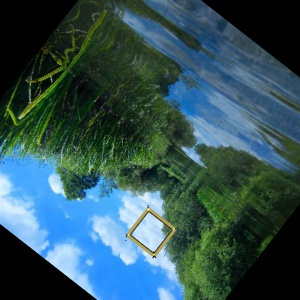square: (122, 204, 179, 261)
